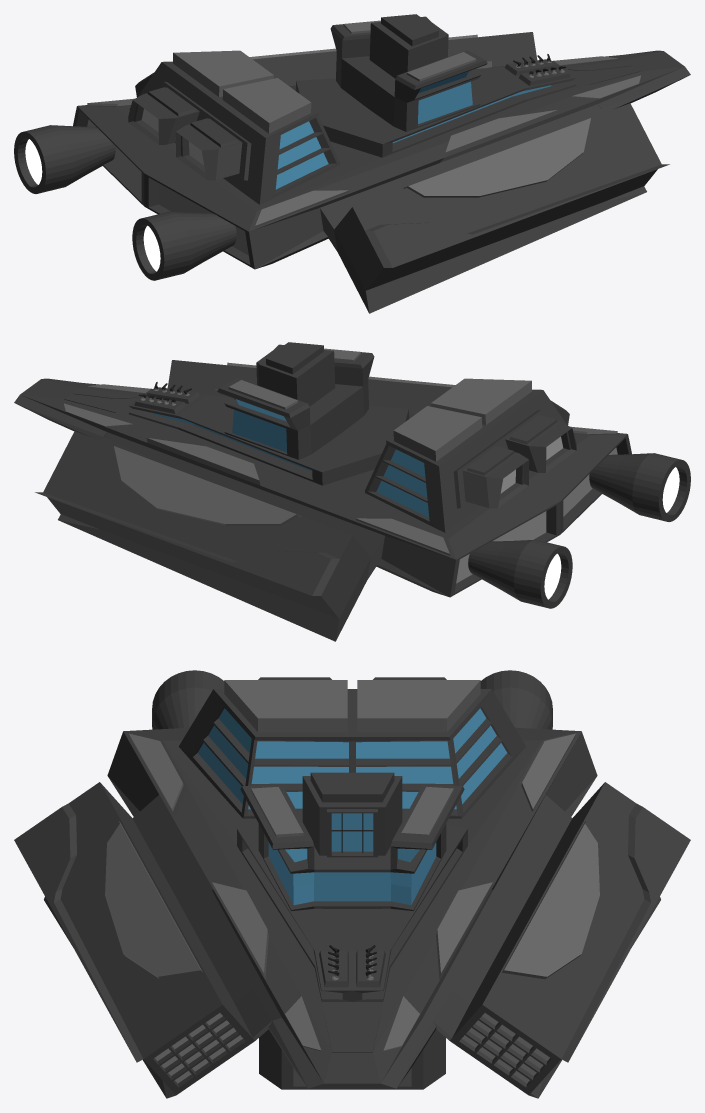
The model's file is aviao4.glb.
3 renders of one model, top to bottom at view 1: azimuth 30°, elevation 25°; view 2: azimuth 150°, elevation 25°; view 3: azimuth 270°, elevation 25°, orthographic. The views are drawn at different scales.
Parts seen in each view (by area): view 1: Cube; view 2: Cube; view 3: Cube.
Boxes of the visible parts, x1=… form: Cube: x1=14, y1=14, x2=690, y2=313; Cube: x1=14, y1=342, x2=690, y2=641; Cube: x1=14, y1=670, x2=690, y2=1098.
Size of the model in its own units: 32.34 by 8.89 by 24.3.
Materials: 2 (1 with a texture image).
